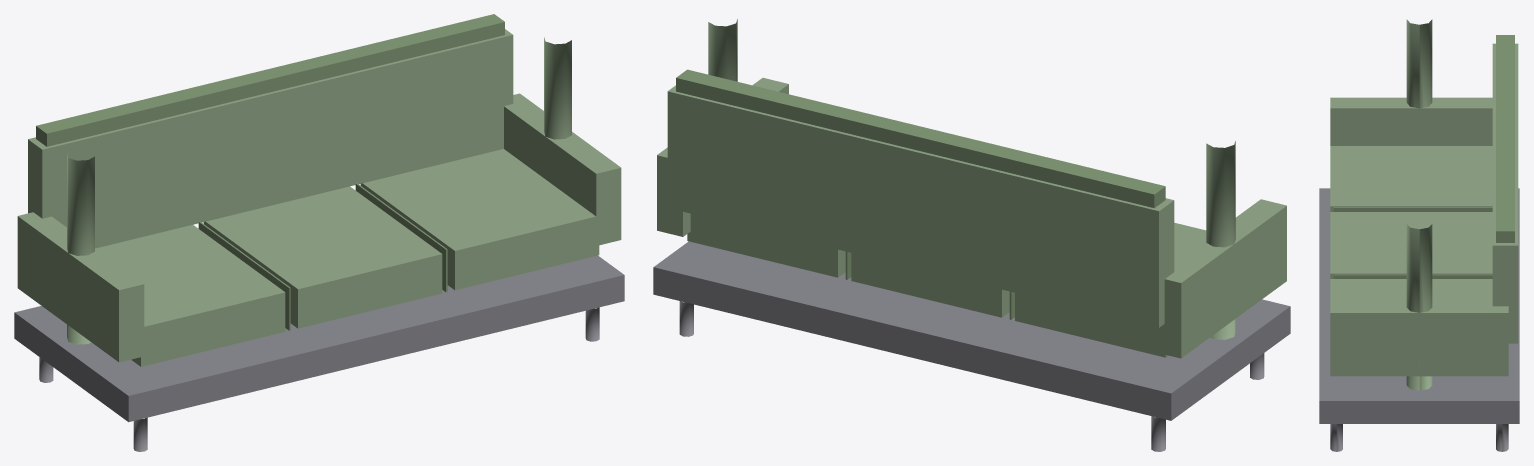
Rendered from waiting_sofa.glb.
3 views of the same model, side by side, from view 1: azimuth 30°, elevation 25°; view 2: azimuth 150°, elevation 25°; view 3: azimuth 270°, elevation 25° (orthographic). The views are drawn at different scales.
Visible parts, largest first — view 1: back_main, frame, seat_c, seat_r, seat_l, back_top_roll, arm_l, arm_r, arm_l_top, arm_r_top, seat_stitches, legs; view 2: back_main, frame, back_top_roll, arm_l, seat_l, seat_c, seat_r, arm_l_top, arm_r, arm_r_top, legs; view 3: arm_r, frame, seat_l, seat_c, arm_l, back_top_roll, back_main, seat_r, arm_r_top, arm_l_top, seat_stitches, legs.
Boxes of the visible parts, x1,y1,x2,y2 form: back_main: (28, 29, 513, 248); frame: (14, 255, 624, 422); seat_c: (203, 186, 442, 328); seat_r: (360, 149, 599, 290); seat_l: (96, 225, 285, 366); back_top_roll: (36, 14, 504, 146); arm_l: (17, 212, 144, 362); arm_r: (504, 93, 621, 245); arm_l_top: (67, 154, 94, 344); arm_r_top: (544, 37, 571, 139); seat_stitches: (198, 183, 447, 330); legs: (39, 307, 599, 451); back_main: (667, 85, 1174, 327); frame: (653, 241, 1290, 420); back_top_roll: (676, 69, 1165, 208); arm_l: (1155, 199, 1286, 358); seat_l: (1015, 222, 1206, 357); seat_c: (851, 253, 1009, 317); seat_r: (687, 213, 845, 277); arm_l_top: (1206, 141, 1235, 339); arm_r: (657, 77, 788, 236); arm_r_top: (708, 19, 737, 81); legs: (679, 301, 1264, 451); arm_r: (1330, 302, 1508, 376); frame: (1319, 188, 1519, 423); seat_l: (1330, 146, 1492, 211); seat_c: (1330, 212, 1492, 278); arm_l: (1330, 97, 1492, 145); back_top_roll: (1496, 35, 1514, 242); back_main: (1492, 43, 1518, 343); seat_r: (1330, 279, 1492, 301); arm_r_top: (1406, 224, 1432, 390); arm_l_top: (1406, 19, 1432, 144); seat_stitches: (1333, 207, 1492, 278); legs: (1330, 424, 1508, 451).
Bounding box in the file's own units: 1.6 × 0.8 × 0.63.
